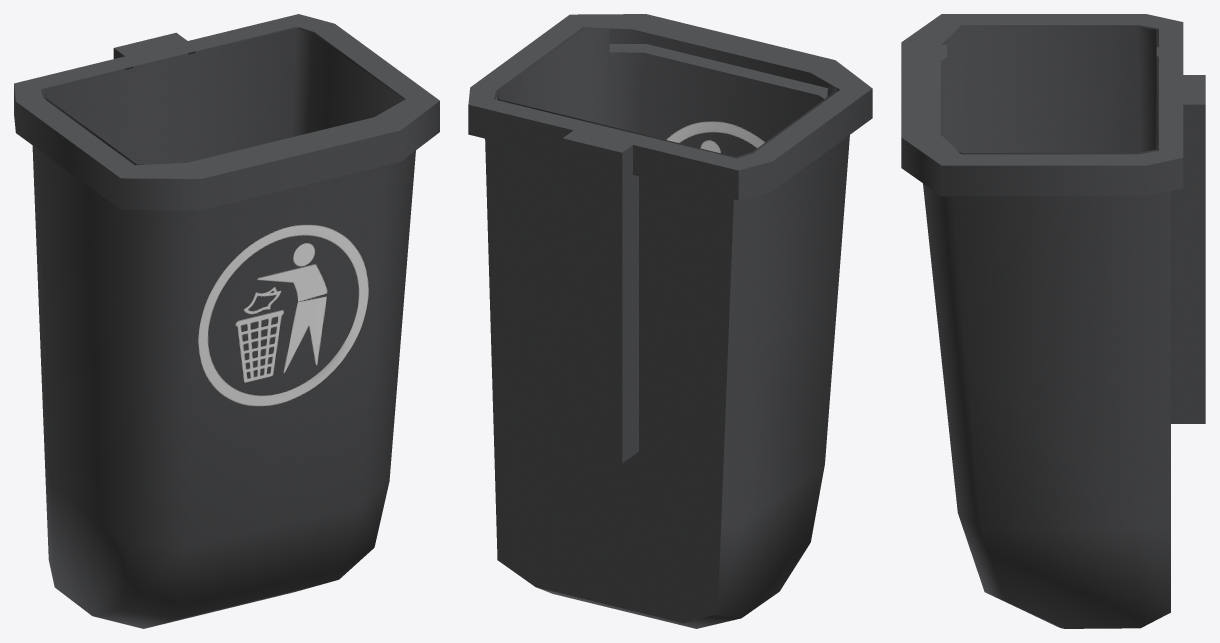
The model's file is trashbin.fbx.
The picture shows the model from 3 angles, left to right: view 1: azimuth 30°, elevation 25°; view 2: azimuth 150°, elevation 25°; view 3: azimuth 270°, elevation 25°; orthographic projection. The views are drawn at different scales.
Visible parts, largest first — view 1: WASTEBIN_TYPE23_L9_001.002; view 2: WASTEBIN_TYPE23_L9_001.002; view 3: WASTEBIN_TYPE23_L9_001.002.
Boxes of the visible parts, x1=… form: WASTEBIN_TYPE23_L9_001.002: x1=14, y1=14, x2=439, y2=628; WASTEBIN_TYPE23_L9_001.002: x1=468, y1=14, x2=872, y2=628; WASTEBIN_TYPE23_L9_001.002: x1=901, y1=14, x2=1205, y2=628.
Size of the model in its own units: 43.39 by 66.96 by 36.8.
